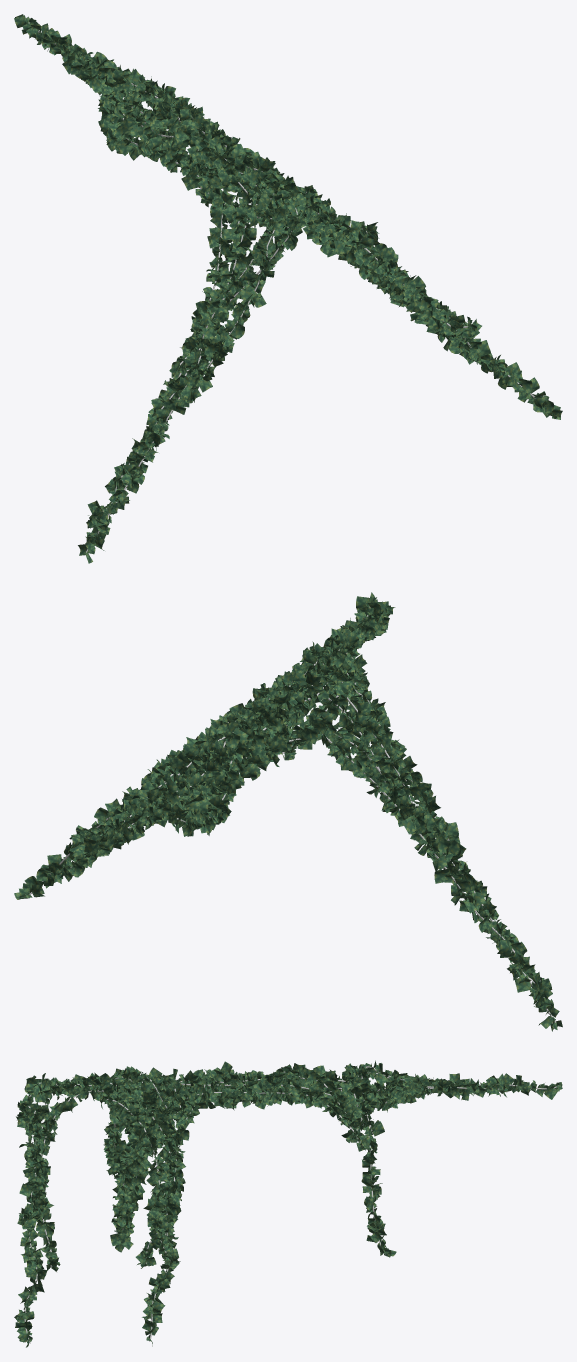
File: SM_Ivy_10.fbx
3 renders of one model, top to bottom at view 1: azimuth 30°, elevation 25°; view 2: azimuth 150°, elevation 25°; view 3: azimuth 270°, elevation 25°, orthographic. The views are drawn at different scales.
Visible parts, largest first — view 1: SM_Ivy_10_LOD0; view 2: SM_Ivy_10_LOD0; view 3: SM_Ivy_10_LOD0.
Part boxes in pixels (x1=…): SM_Ivy_10_LOD0: x1=14, y1=14, x2=562, y2=563; SM_Ivy_10_LOD0: x1=14, y1=592, x2=562, y2=1031; SM_Ivy_10_LOD0: x1=14, y1=1060, x2=562, y2=1347.
Bounding box in the file's own units: 608 × 830 × 454.
Materials: 2 (1 with a texture image).
